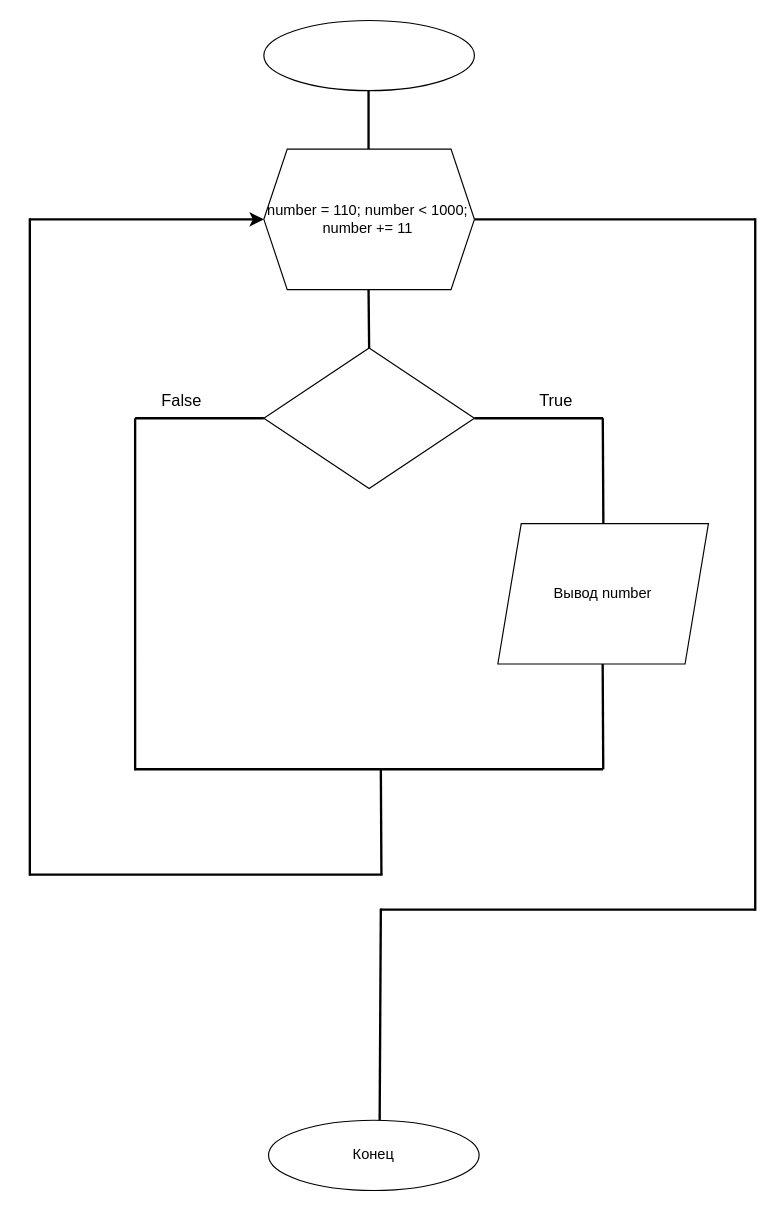
This 777x1211 diagram has some shape labels left out. The box of each missing label's shape, as (x1, y1, x2, y2) in pixels:
str(number).count('3')>=1: (263, 347, 474, 488)
Начало: (263, 19, 474, 91)
